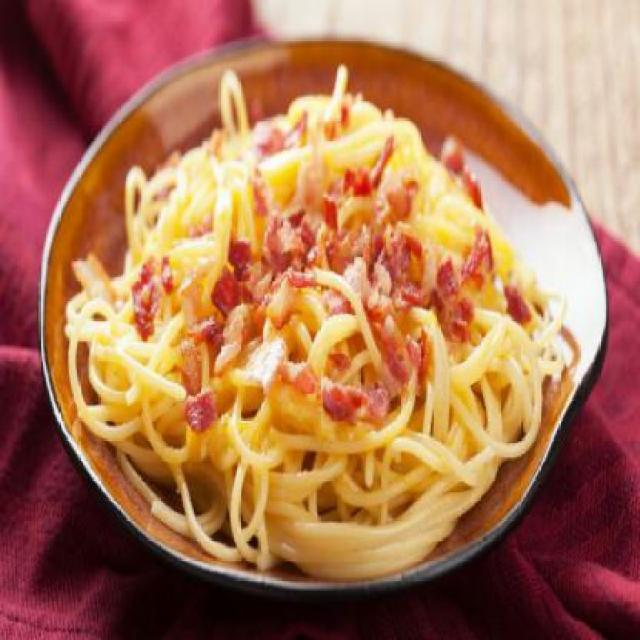Pasta with carbonara sauce: (71, 59, 560, 552)
